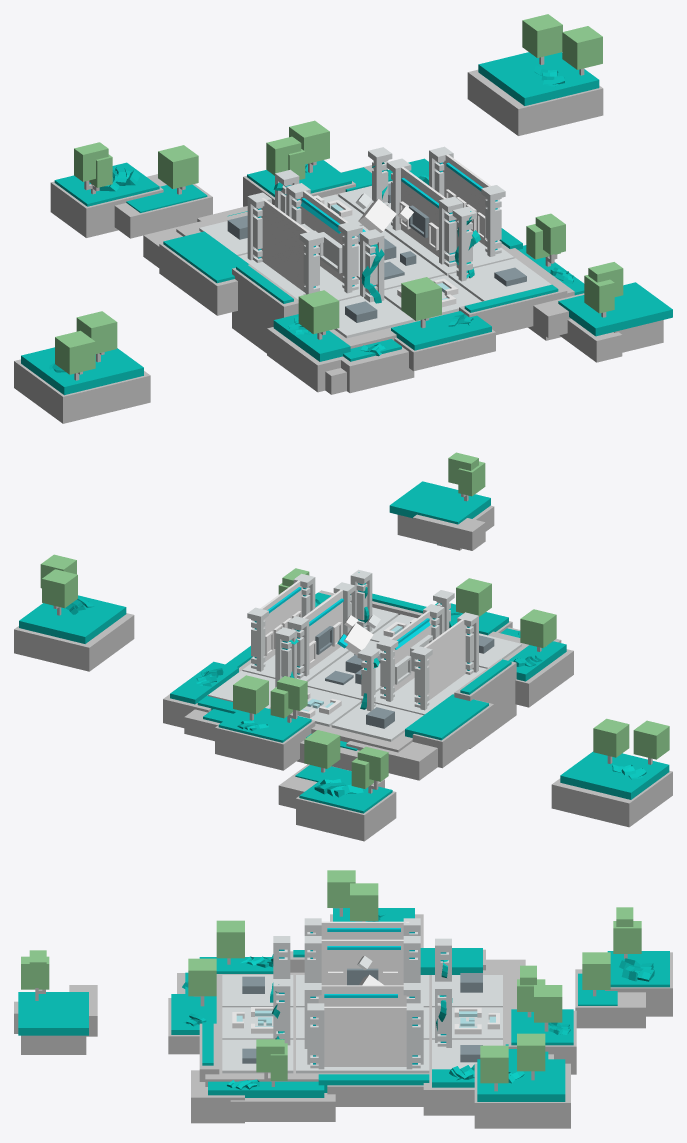
File: scene1.gltf.glb
3 views of the same model, one above another, from view 1: azimuth 30°, elevation 25°; view 2: azimuth 150°, elevation 25°; view 3: azimuth 270°, elevation 25° (orthographic). The views are drawn at different scales.
Parts seen in each view (by area): view 1: Node_8, Node_4, Node_5, Node_3, Node_7, Node_6, Node_10; view 2: Node_8, Node_4, Node_5, Node_3, Node_7, Node_6, Node_10; view 3: Node_8, Node_4, Node_5, Node_3, Node_7, Node_6, Node_10, Node_9.
Boxes of the visible parts, x1=… form: Node_8: x1=14, y1=56, x2=663, y2=423; Node_4: x1=21, y1=52, x2=672, y2=395; Node_5: x1=199, y1=146, x2=551, y2=338; Node_3: x1=55, y1=14, x2=623, y2=374; Node_7: x1=261, y1=154, x2=490, y2=307; Node_6: x1=227, y1=183, x2=526, y2=322; Node_10: x1=256, y1=162, x2=497, y2=295; Node_8: x1=14, y1=494, x2=672, y2=841; Node_4: x1=19, y1=481, x2=669, y2=813; Node_5: x1=208, y1=569, x2=521, y2=741; Node_3: x1=40, y1=452, x2=669, y2=788; Node_7: x1=260, y1=580, x2=466, y2=718; Node_6: x1=315, y1=626, x2=494, y2=728; Node_10: x1=254, y1=583, x2=471, y2=703; Node_8: x1=14, y1=908, x2=672, y2=1128; Node_4: x1=18, y1=908, x2=669, y2=1101; Node_5: x1=222, y1=918, x2=502, y2=1073; Node_3: x1=21, y1=870, x2=641, y2=1083; Node_7: x1=232, y1=921, x2=499, y2=1066; Node_6: x1=242, y1=968, x2=482, y2=1063; Node_10: x1=279, y1=928, x2=446, y2=1064; Node_9: x1=236, y1=1010, x2=495, y2=1027.
Bounding box in the file's own units: 2.4 × 0.6713 × 2.32.
